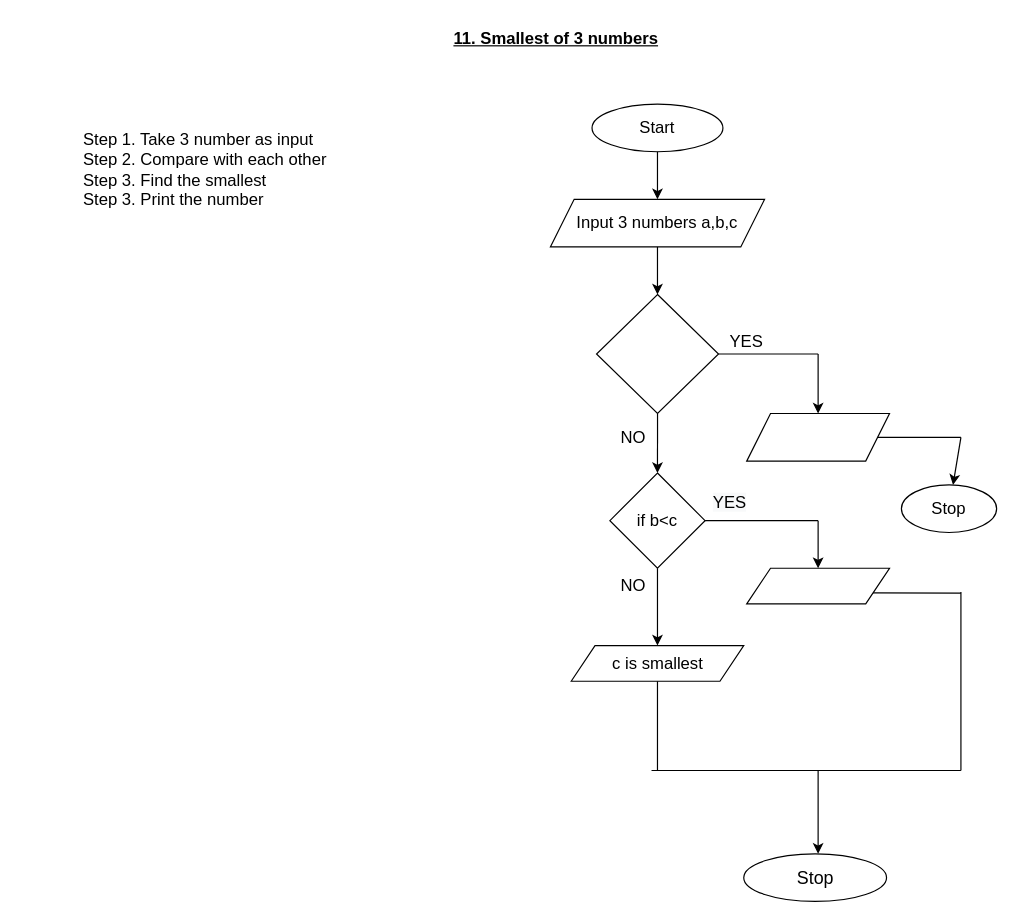
Image size: 1017x922. Some labels were removed from this diagram. The centre of each missing label's shape, as x and y in pixels:
a is smallest: the point at 818,436
b is smallest: the point at 818,585
if a<b&&a<c: the point at 657,353
